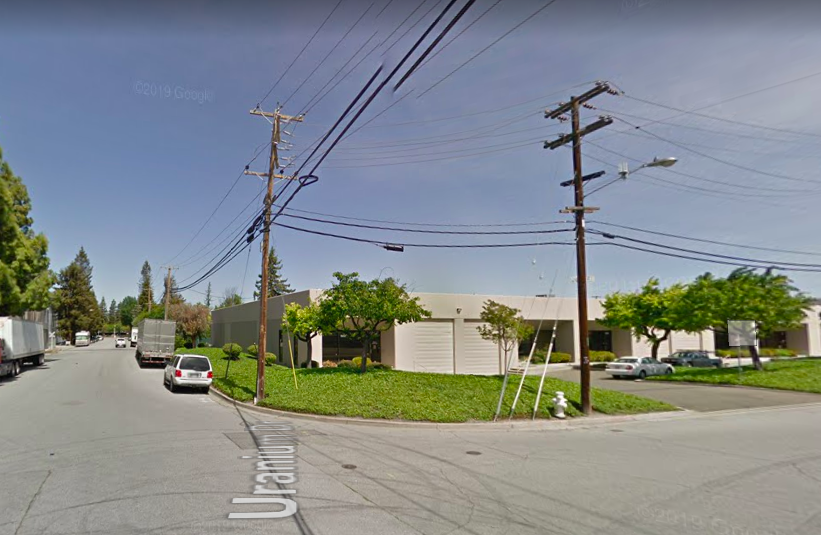utility_pole: (536, 74, 622, 198), (237, 92, 309, 209)
